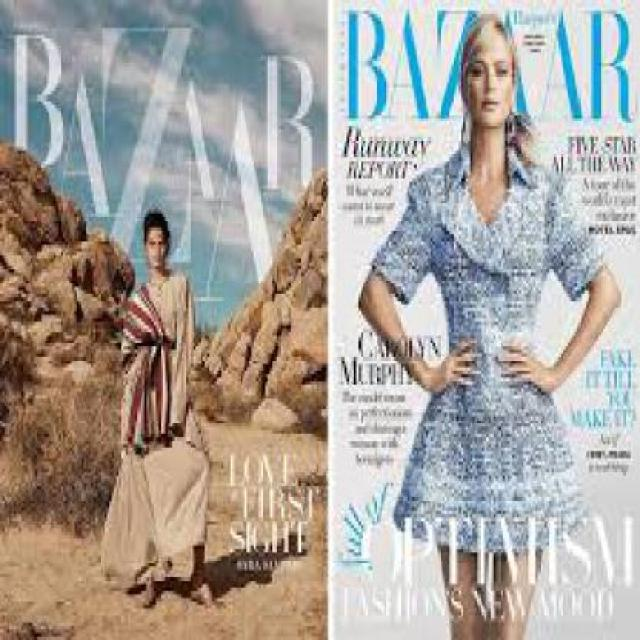PAPER: (0, 0, 325, 637), (330, 0, 638, 637)
